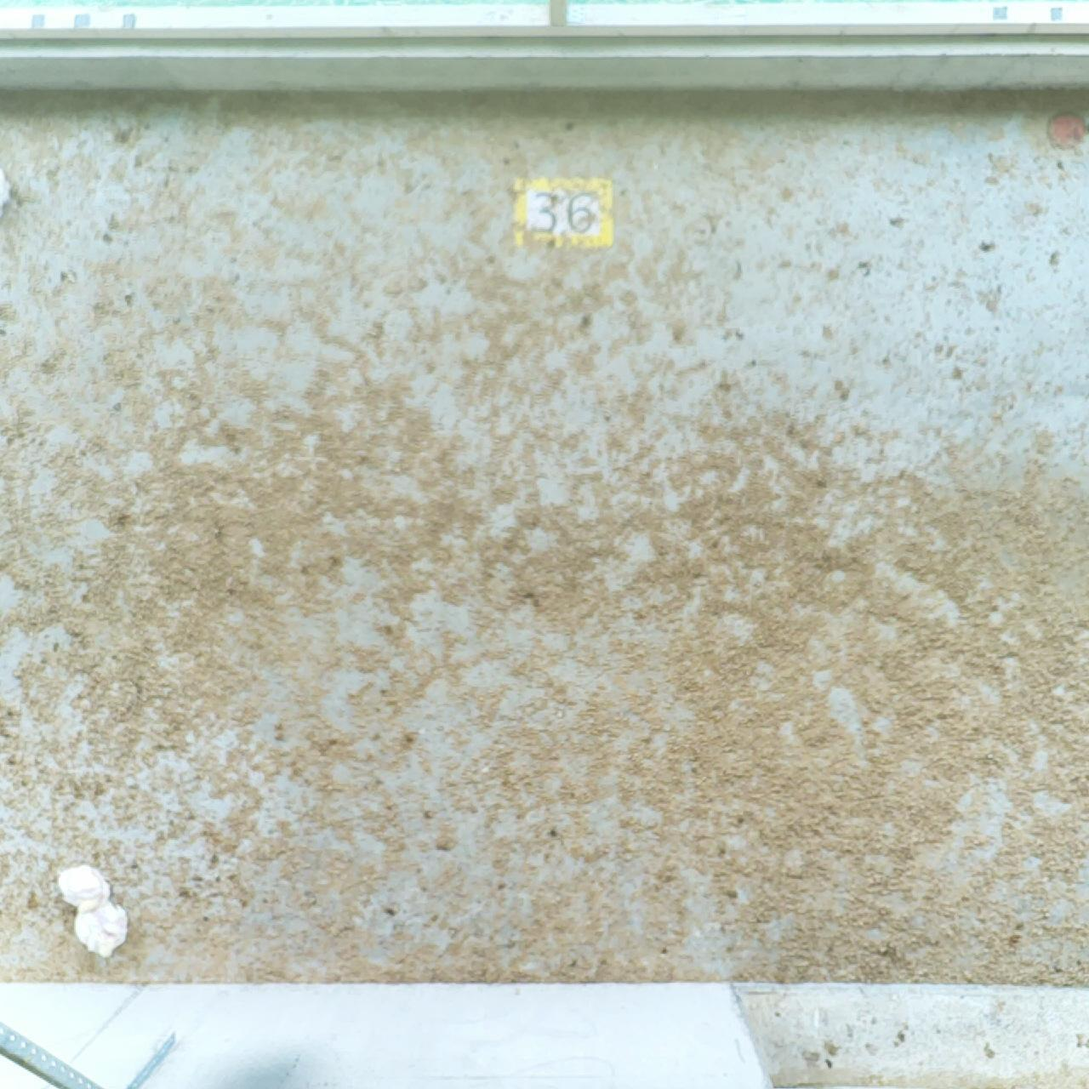chicken: (72, 896, 135, 961), (54, 858, 114, 919)
